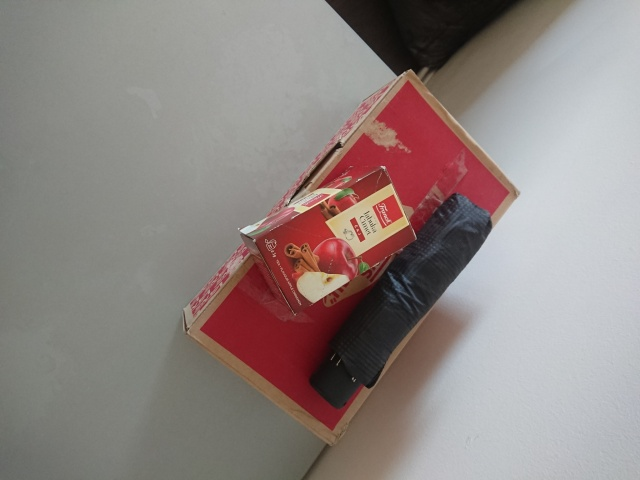Franck Apple Cinnamon Tea 60g: (236, 162, 419, 316)
